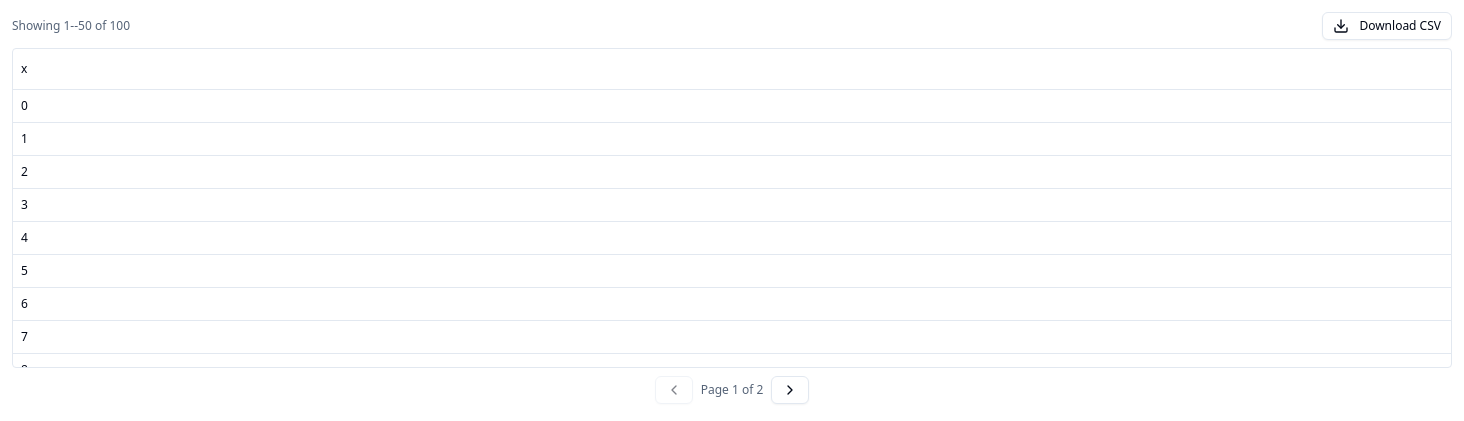
PredictionsTable › navigates back to previous page when prev button is clicked
Expected: the text "Page 1 of 2" is shown, [701,382,763,398]
Click the 3rd button at (790, 390), box [771,376,809,404]
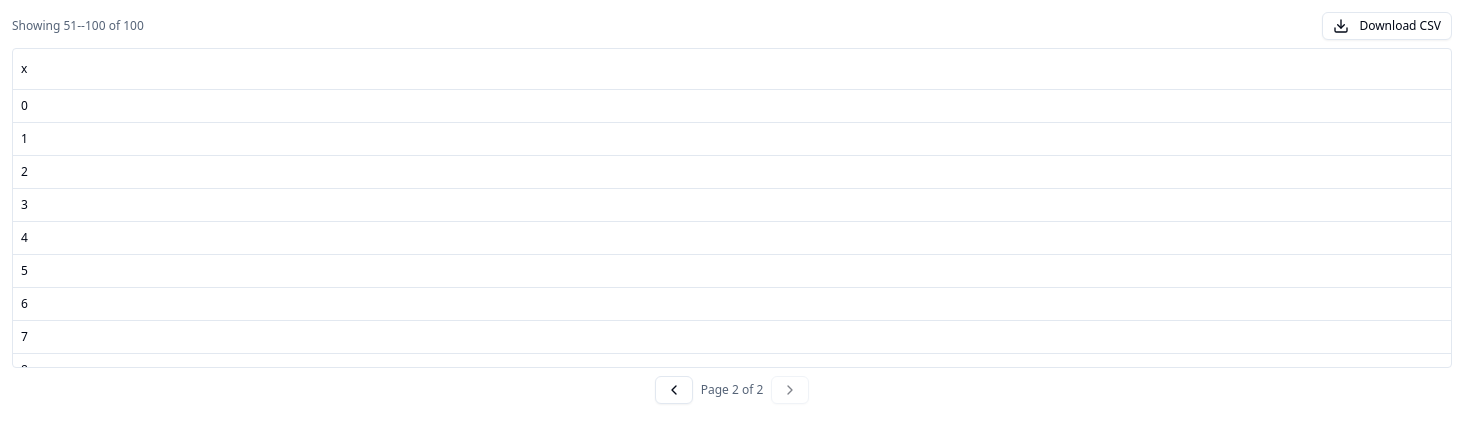
Expected: the text "Page 2 of 2" is shown, [701,382,763,398]
Click the 2nd button at (674, 390), box [655,376,693,404]
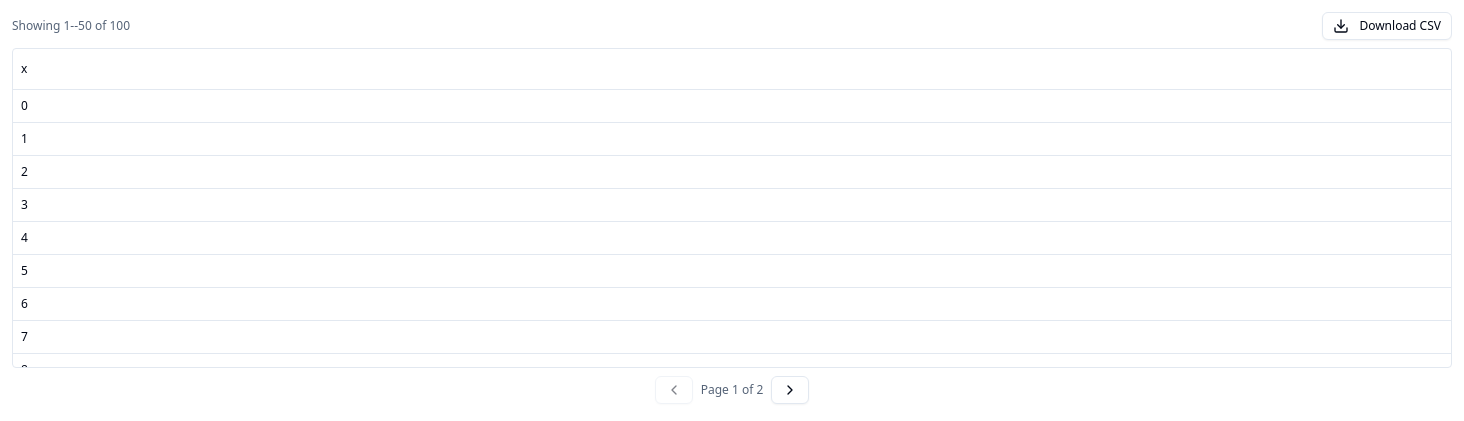
Expected: the text "Page 1 of 2" is shown, [701,382,763,398]
